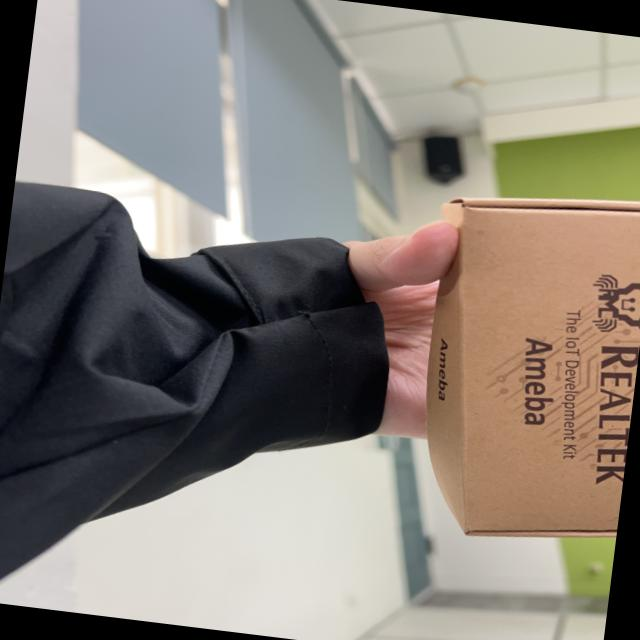box: (399, 171, 640, 568)
